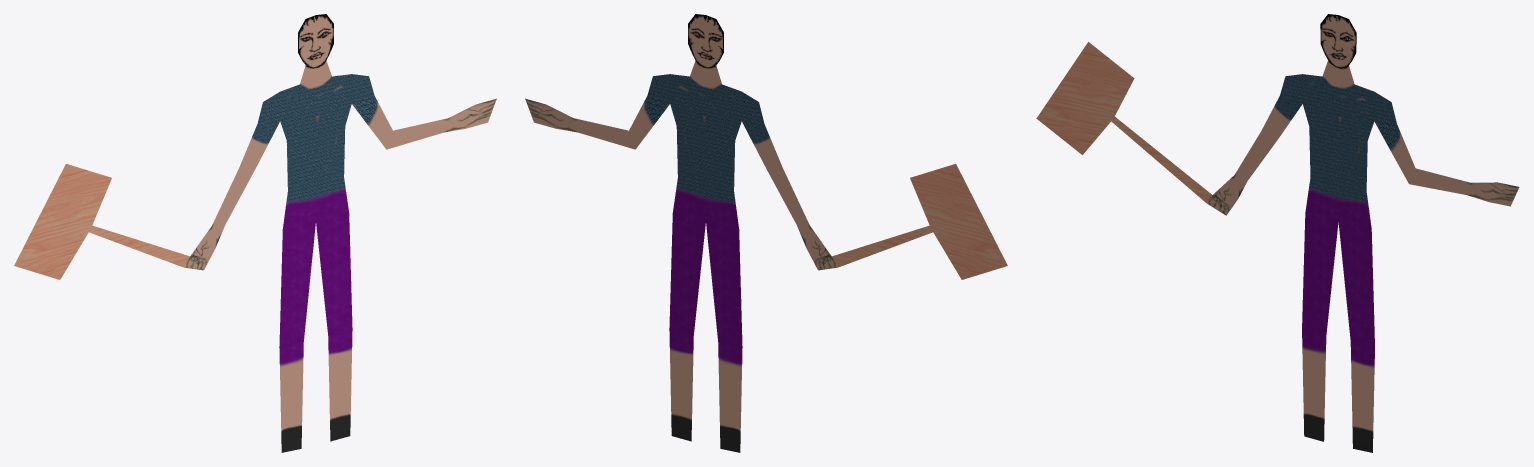
File: SignWave.fbx
3 views of the same model, side by side, from view 1: azimuth 30°, elevation 25°; view 2: azimuth 150°, elevation 25°; view 3: azimuth 330°, elevation 25° (orthographic).
Parts seen in each view (by area): view 1: pPlane2; view 2: pPlane2; view 3: pPlane2.
Part boxes in pixels (bbox=[...]): pPlane2: bbox=[14, 14, 496, 452]; pPlane2: bbox=[525, 14, 1007, 452]; pPlane2: bbox=[1036, 14, 1519, 452].
Size of the model in its own units: 16.91 by 14.39 by 2.84e-14.
